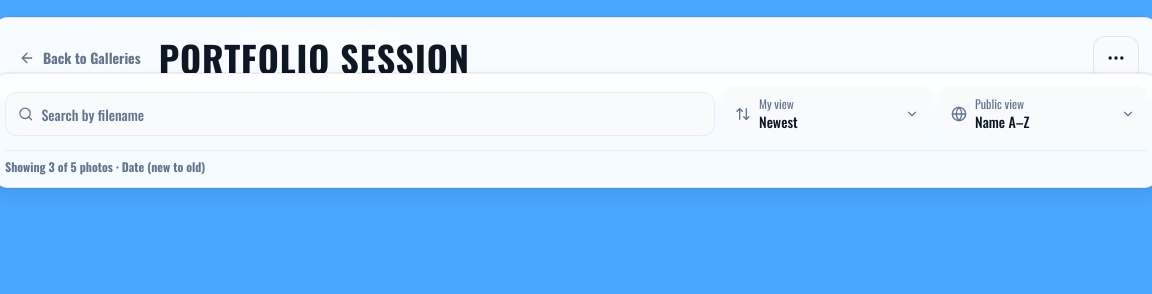
GalleryHeader › keeps project settings and gallery navigation in the overflow menu
This screenshot has width=1152, height=294.
Step 1. Click the button named "more gallery actions" → (1116,58), box x1=1093 y1=36 x2=1139 y2=80
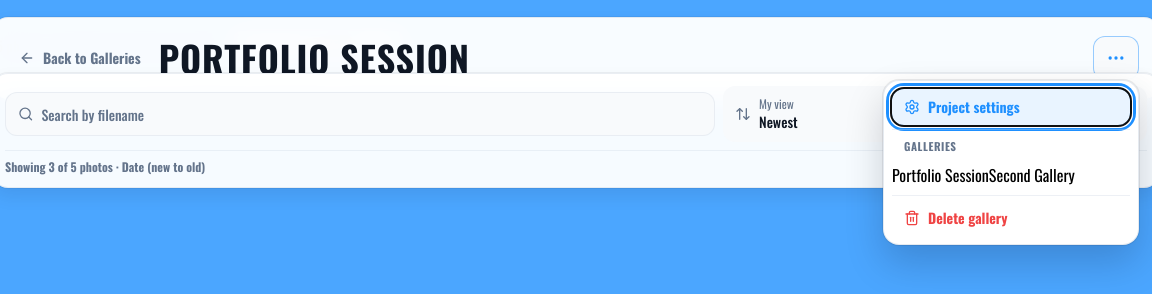
Result: the link "Portfolio Session" is shown at x1=892 y1=162 x2=989 y2=186
Result: the link "Second Gallery" is shown at x1=989 y1=162 x2=1075 y2=186
